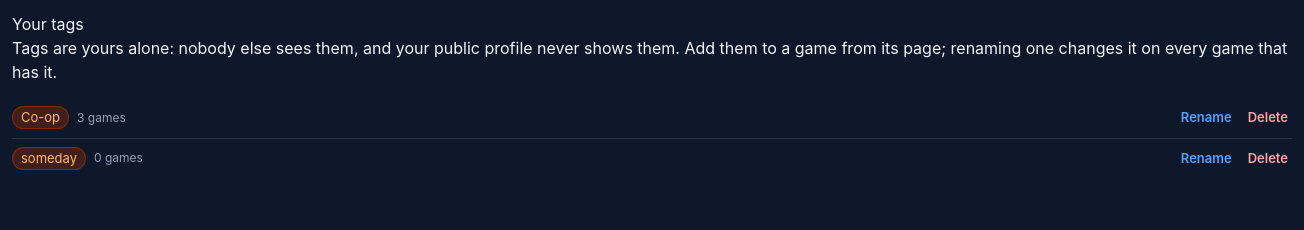
Test: TagsCard renaming › backs out on Escape, with the focus back on the button that opened it
The image size is (1304, 230).
Click the button with aria-label "Rename Co-op".
click(1206, 118)  # box [1177,106,1236,130]
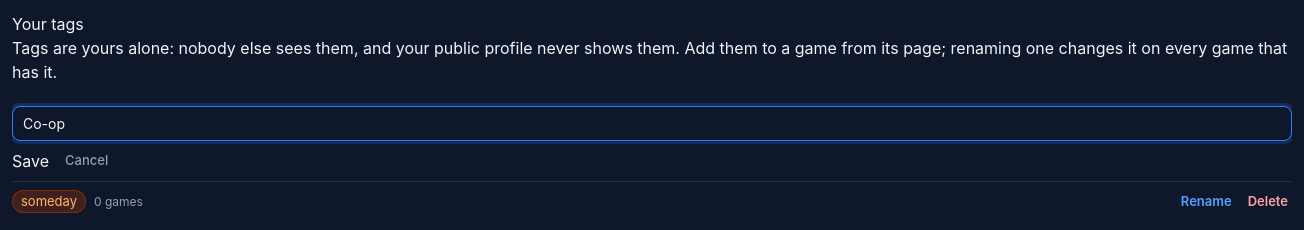
Press Escape
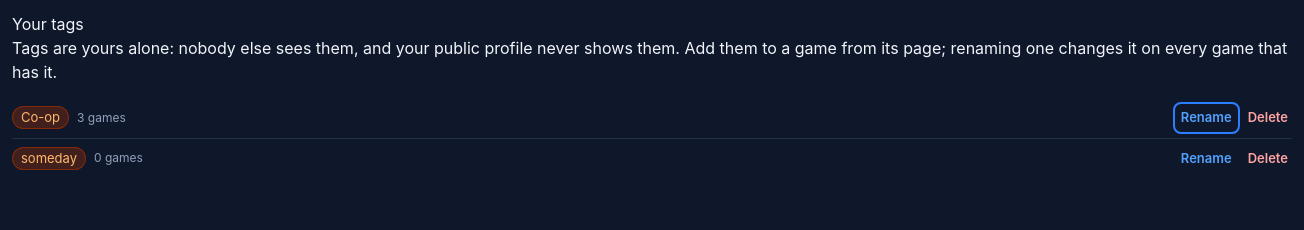
Now the field is gone
